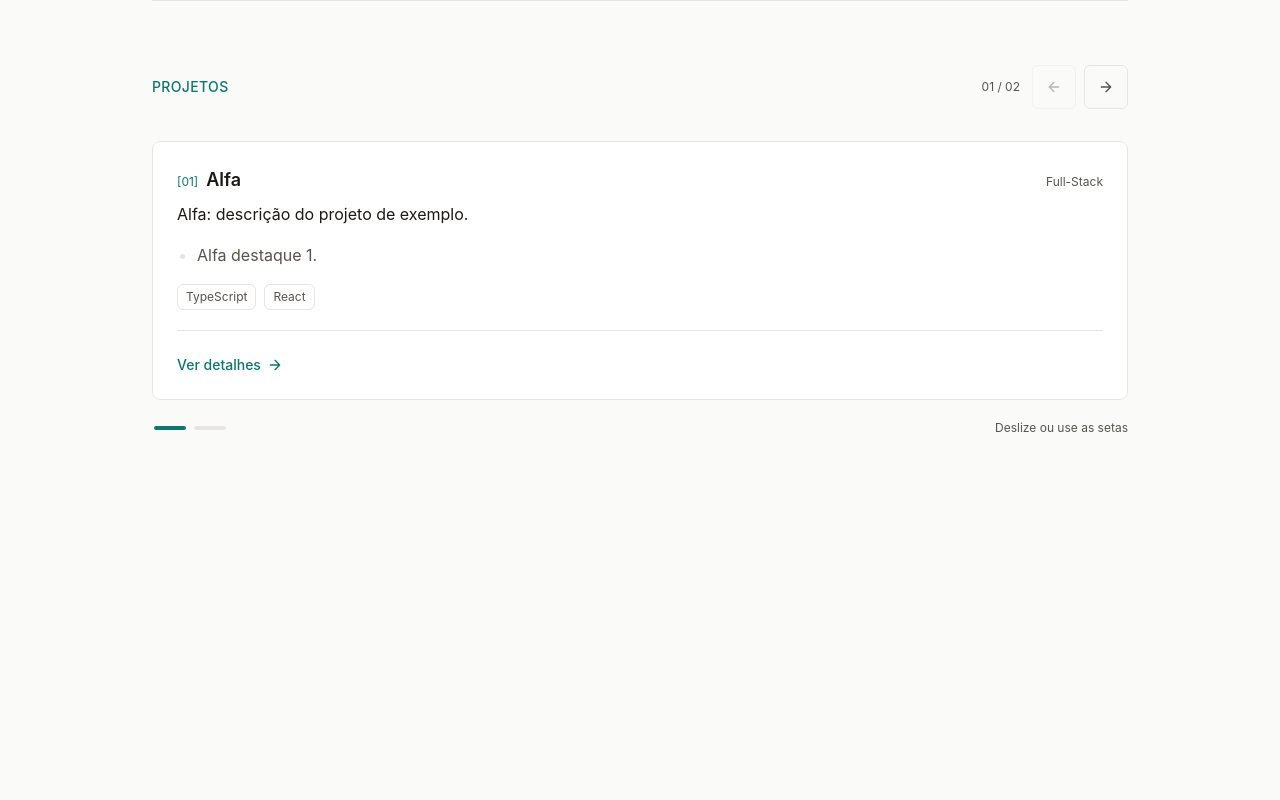
project details drawer (desktop) › opens from the card as a labelled modal with the case study and the stack by layer
The width and height of the screenshot is (1280, 800).
Click the button with aria-label "Ver detalhes do projeto Alfa": click(230, 365) x1=165 y1=343 x2=295 y2=387
(page scrolled)
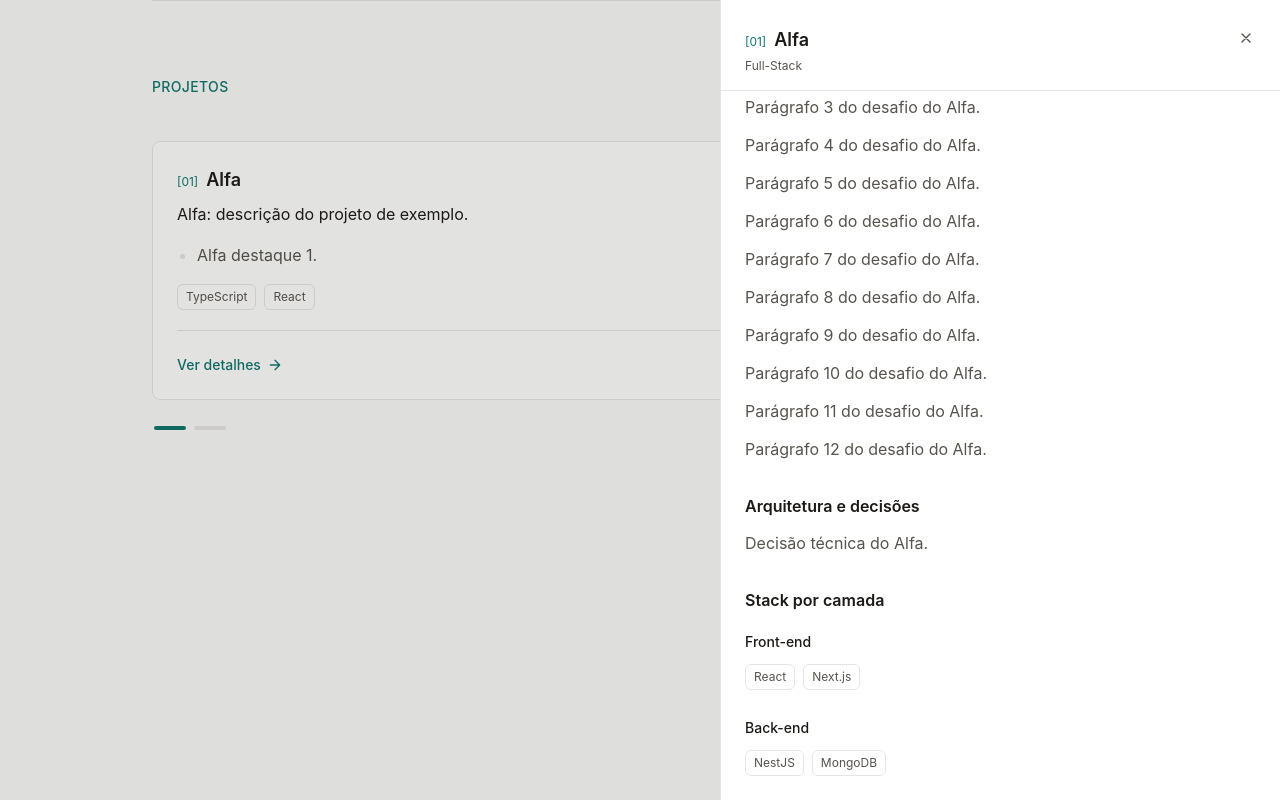
Check: the dialog "Alfa" is shown, box x1=720 y1=0 x2=1279 y2=799
Check: the heading "Alfa" is shown, box x1=774 y1=26 x2=809 y2=54
Check: the heading "Stack por camada" is shown, box x1=745 y1=590 x2=884 y2=610
